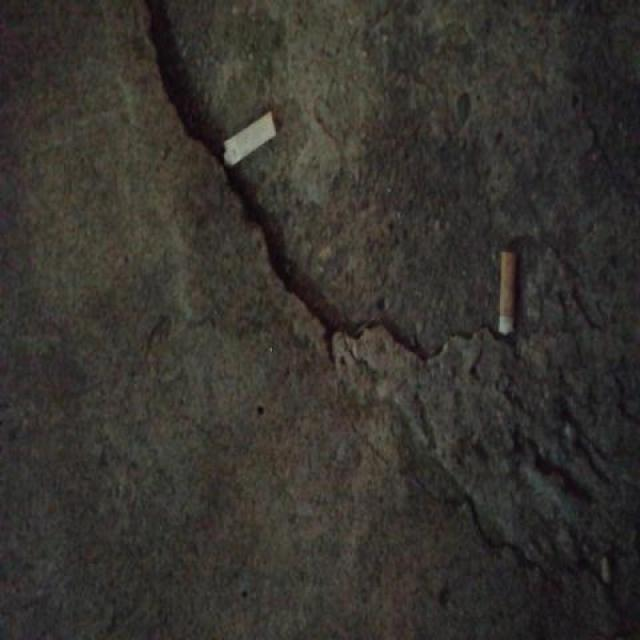non-organic waste: (218, 104, 282, 172), (495, 246, 520, 335)
